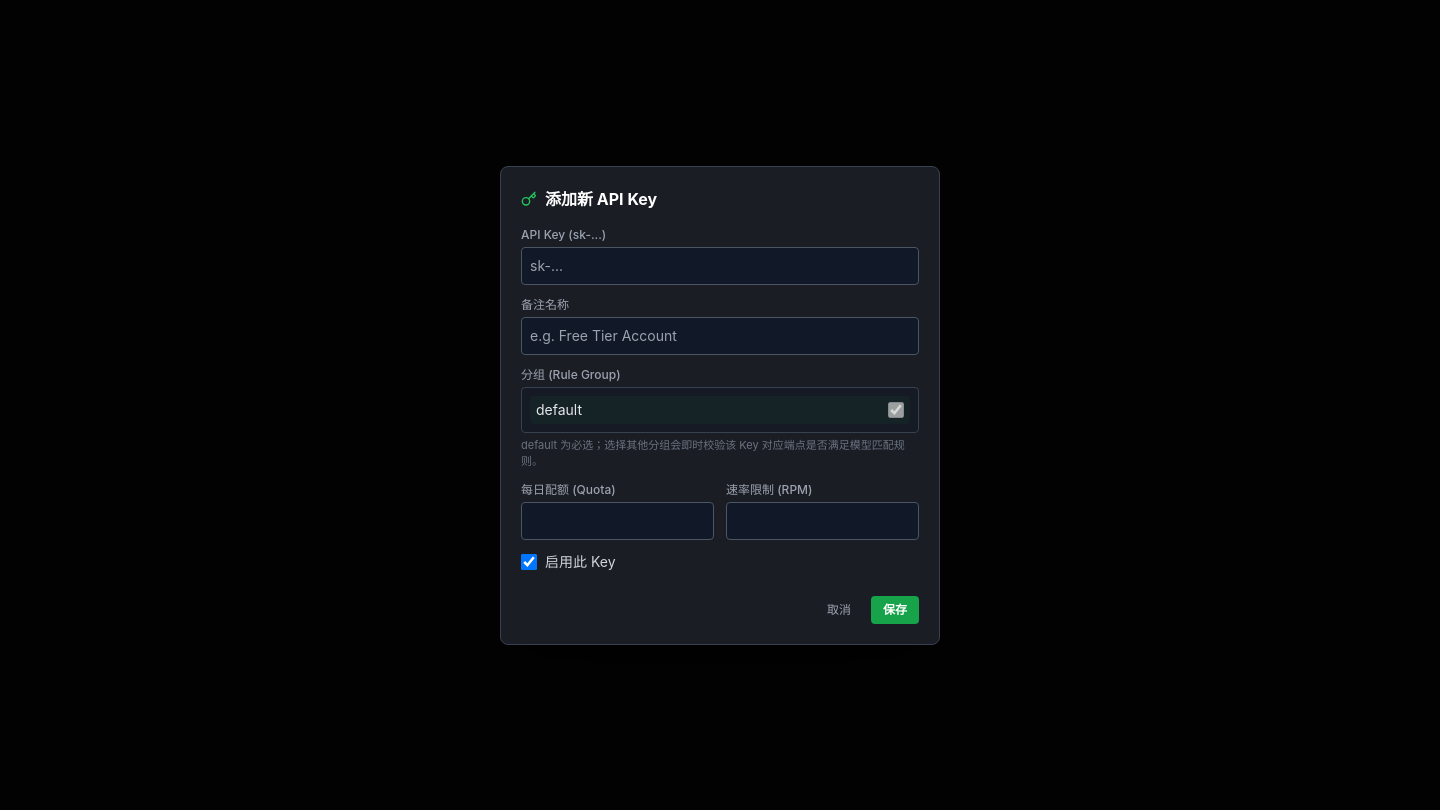
it: EditEndpointModal › keeps API key form open when save fails
In the field named "API Key": (720, 266) [521,246,919,284], type "sk-test"
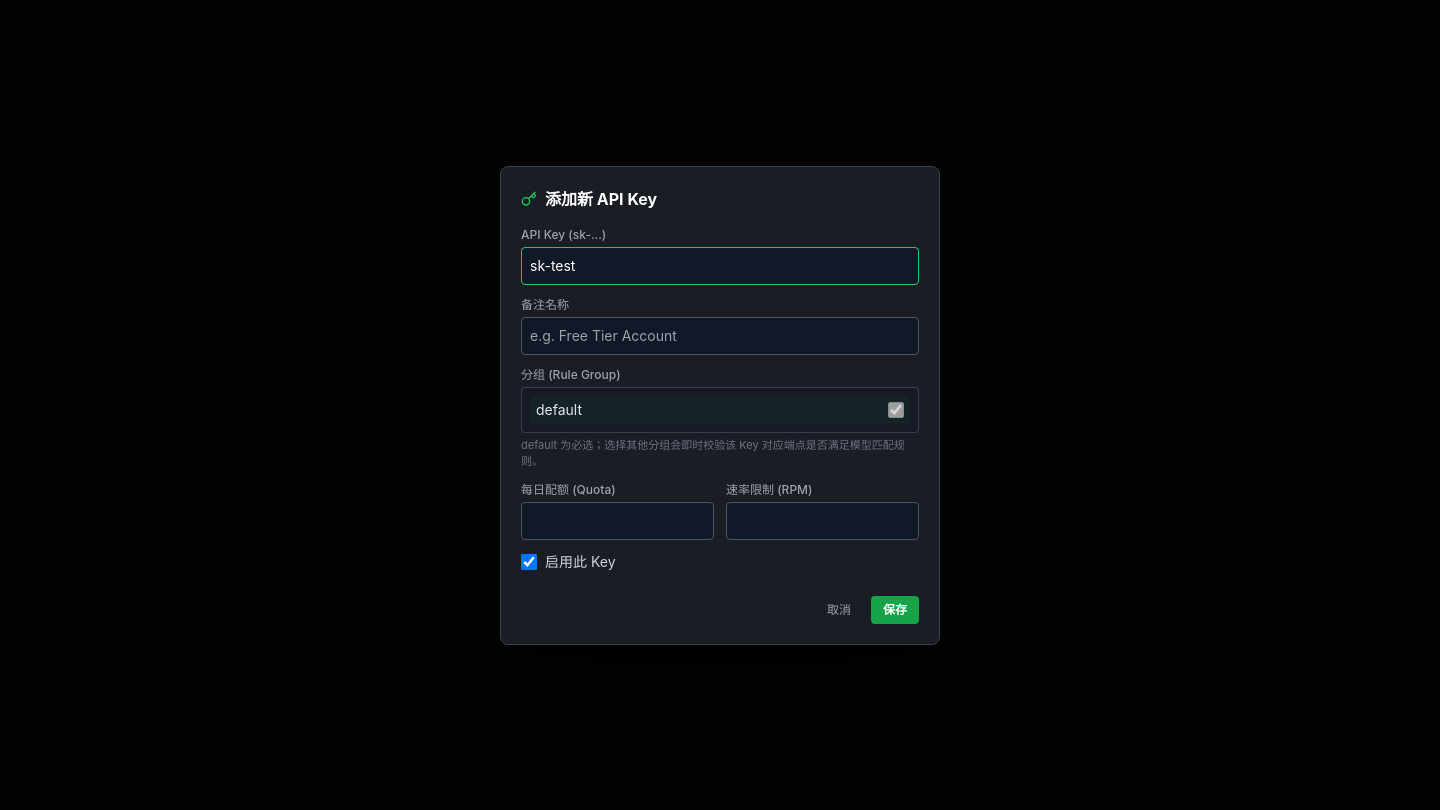
Click the button "保存": (895, 610) [871,596,919,624]
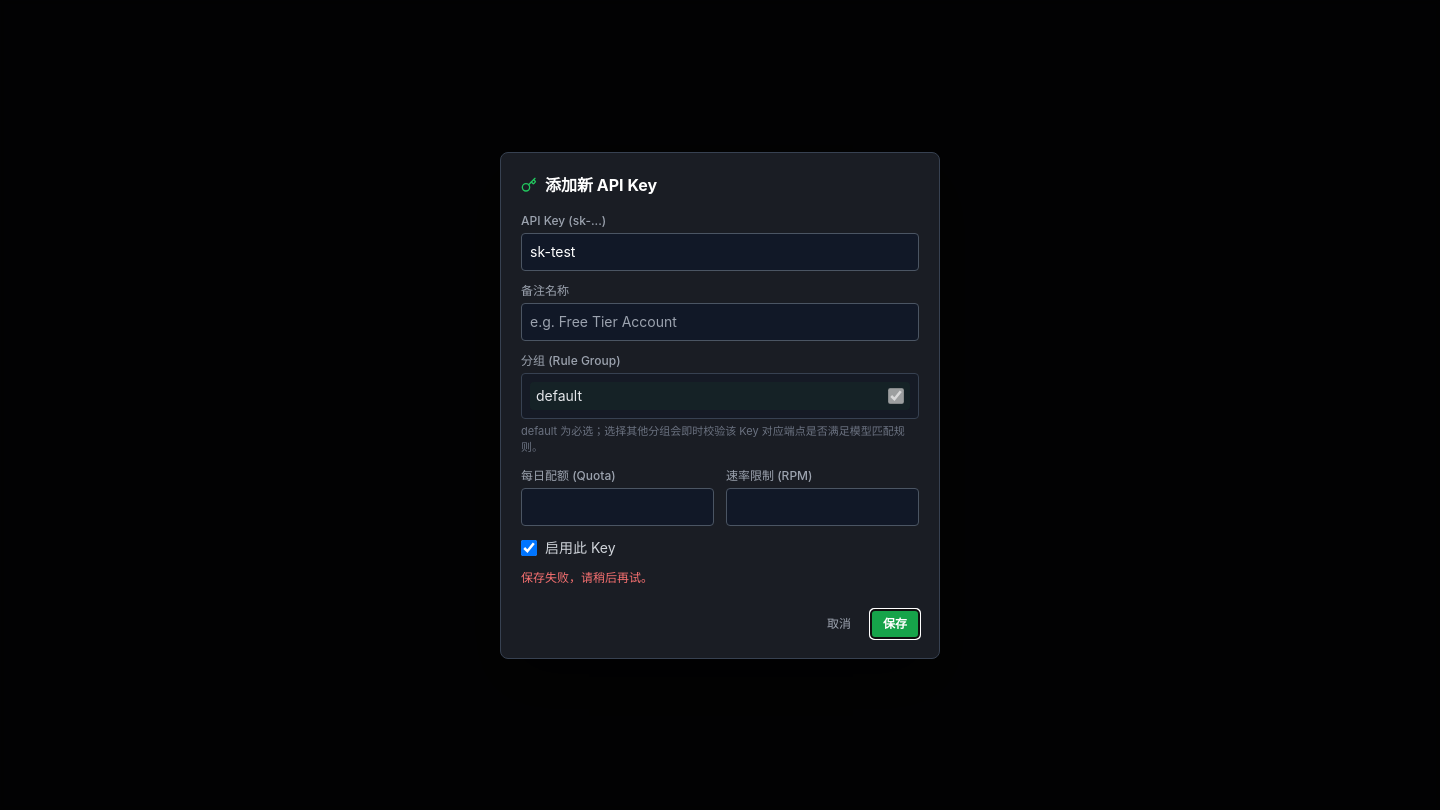
Expected: the heading "添加新 API Key" is shown, [521,174,657,194]
Result: the text "保存失败，请稍后再试。" is shown at [521,570,653,584]
